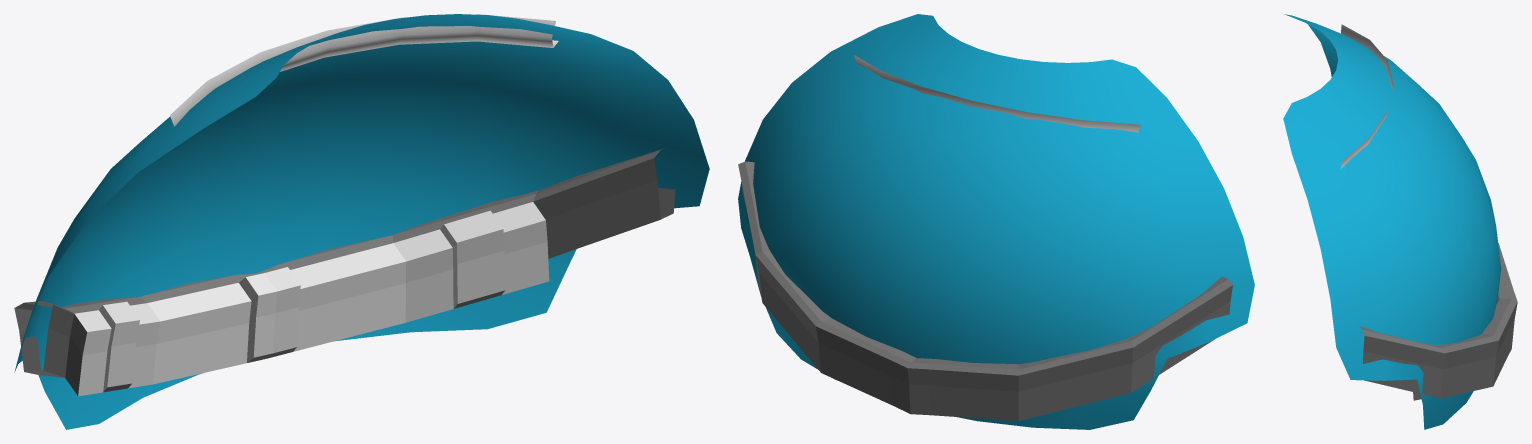
The model's file is HELMET_Test.fbx.
The picture shows the model from 3 angles, left to right: view 1: azimuth 30°, elevation 25°; view 2: azimuth 150°, elevation 25°; view 3: azimuth 270°, elevation 25°; orthographic projection. The views are drawn at different scales.
Parts seen in each view (by area): view 1: Sphere, Torus.001, Torus.002; view 2: Sphere, Torus.001, Torus.002; view 3: Sphere, Torus.001, Torus.002.
Boxes of the visible parts, x1,y1,x2,y2 form: Sphere: (14, 14, 709, 429); Torus.001: (14, 148, 675, 396); Torus.002: (170, 14, 558, 126); Sphere: (738, 14, 1254, 429); Torus.001: (738, 161, 1232, 421); Torus.002: (854, 55, 1140, 132); Sphere: (1283, 14, 1501, 429); Torus.001: (1360, 243, 1517, 400); Torus.002: (1341, 24, 1393, 168).
Bounding box in the file's own units: 626 × 354 × 254.
